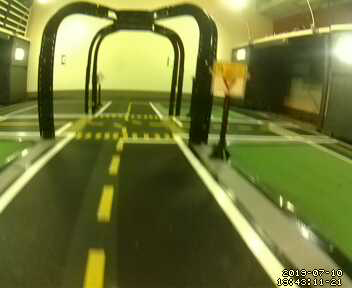Turn Yield: (214, 61, 246, 98)
